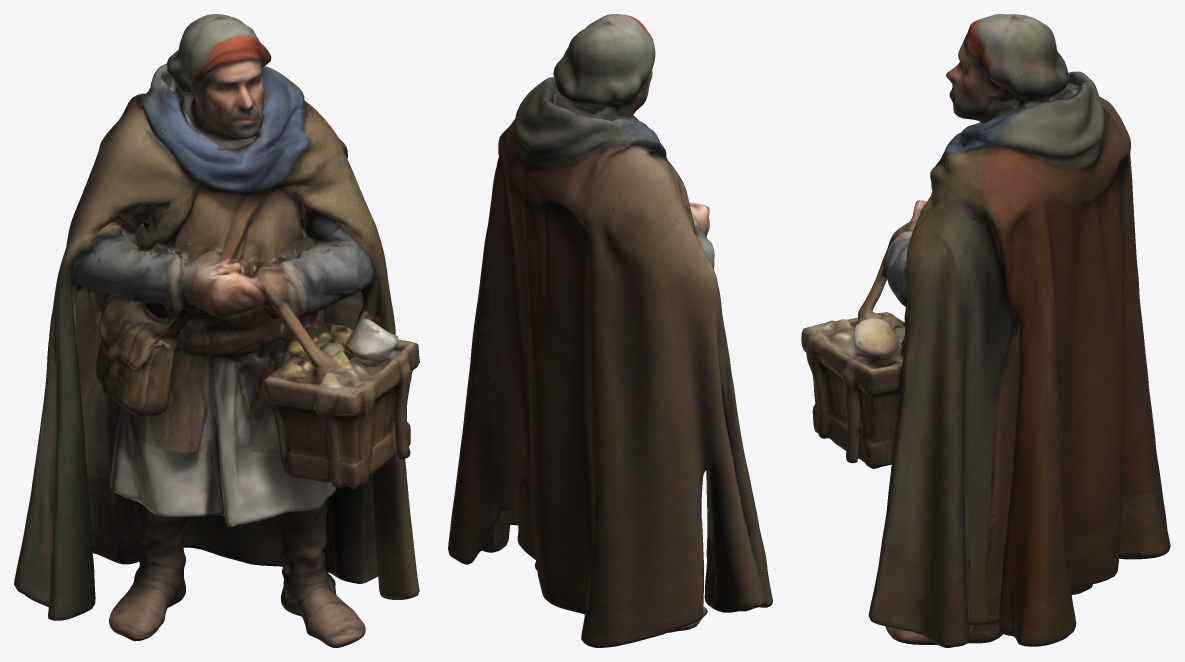
File: k15_gezgin_tuccar_sepetli.glb
The picture shows the model from 3 angles, left to right: view 1: azimuth 30°, elevation 25°; view 2: azimuth 150°, elevation 25°; view 3: azimuth 270°, elevation 25°; orthographic projection. The views are drawn at different scales.
Size of the model in its own units: 1.16 by 2 by 1.14.
Materials: 1 (1 with a texture image).
